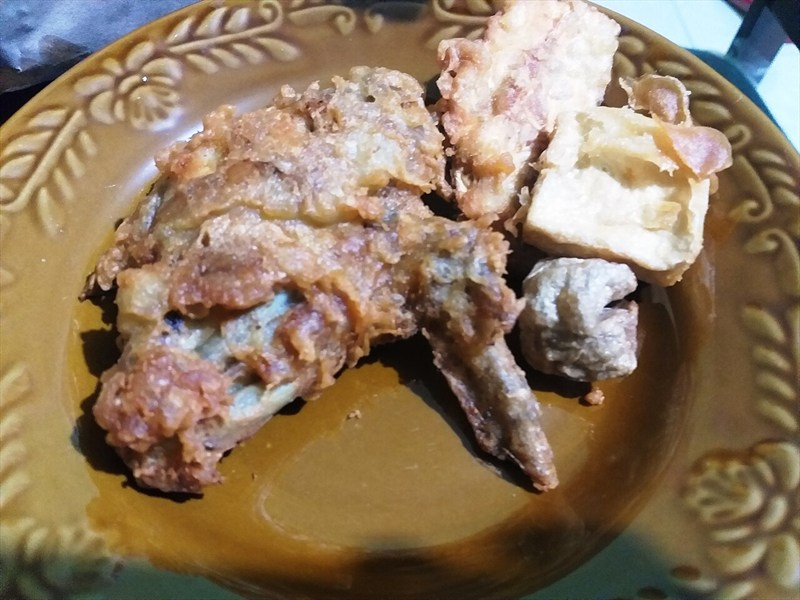Ayam Goreng: (67, 24, 733, 431)
